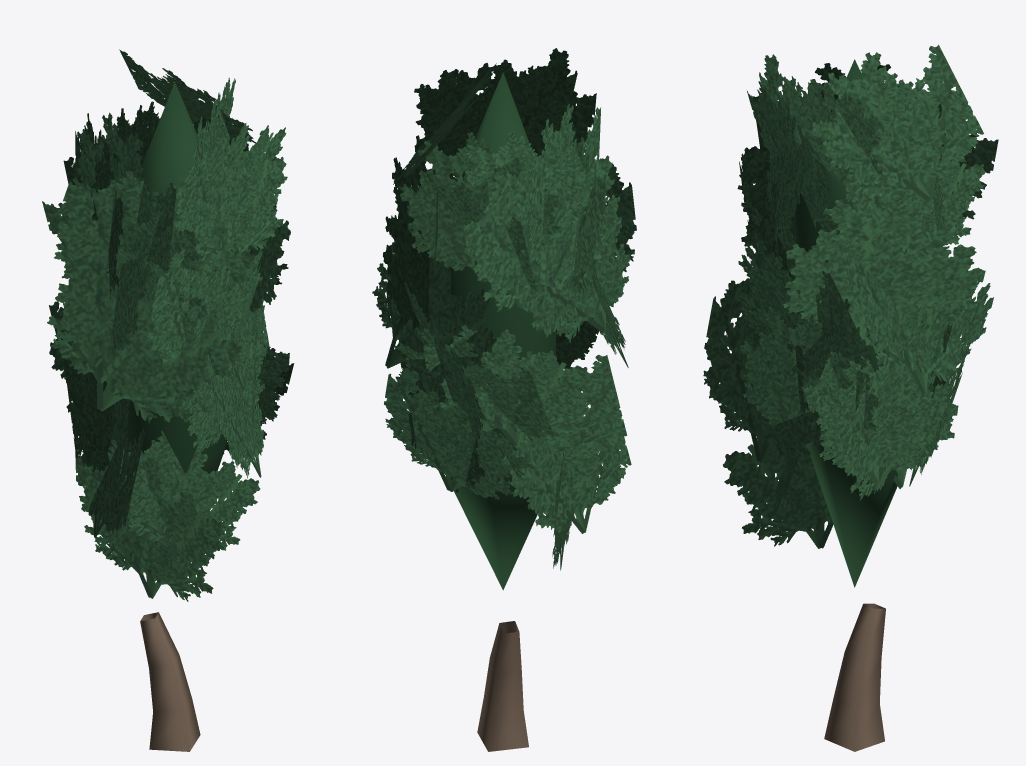
File: CUPRESSUS_2.glb
3 renders of one model, left to right at view 1: azimuth 30°, elevation 25°; view 2: azimuth 150°, elevation 25°; view 3: azimuth 270°, elevation 25°, orthographic. The views are drawn at different scales.
Parts seen in each view (by area): view 1: Arv_CUPRESSUS_lod2; view 2: Arv_CUPRESSUS_lod2; view 3: Arv_CUPRESSUS_lod2.
Part boxes in pixels (left/top/right/bottom): Arv_CUPRESSUS_lod2: left=42, top=49, right=294, bottom=751; Arv_CUPRESSUS_lod2: left=372, top=48, right=636, bottom=751; Arv_CUPRESSUS_lod2: left=703, top=44, right=998, bottom=751.
Size of the model in its own units: 4.1 by 9.25 by 3.73.
3 materials, 1 textured.
